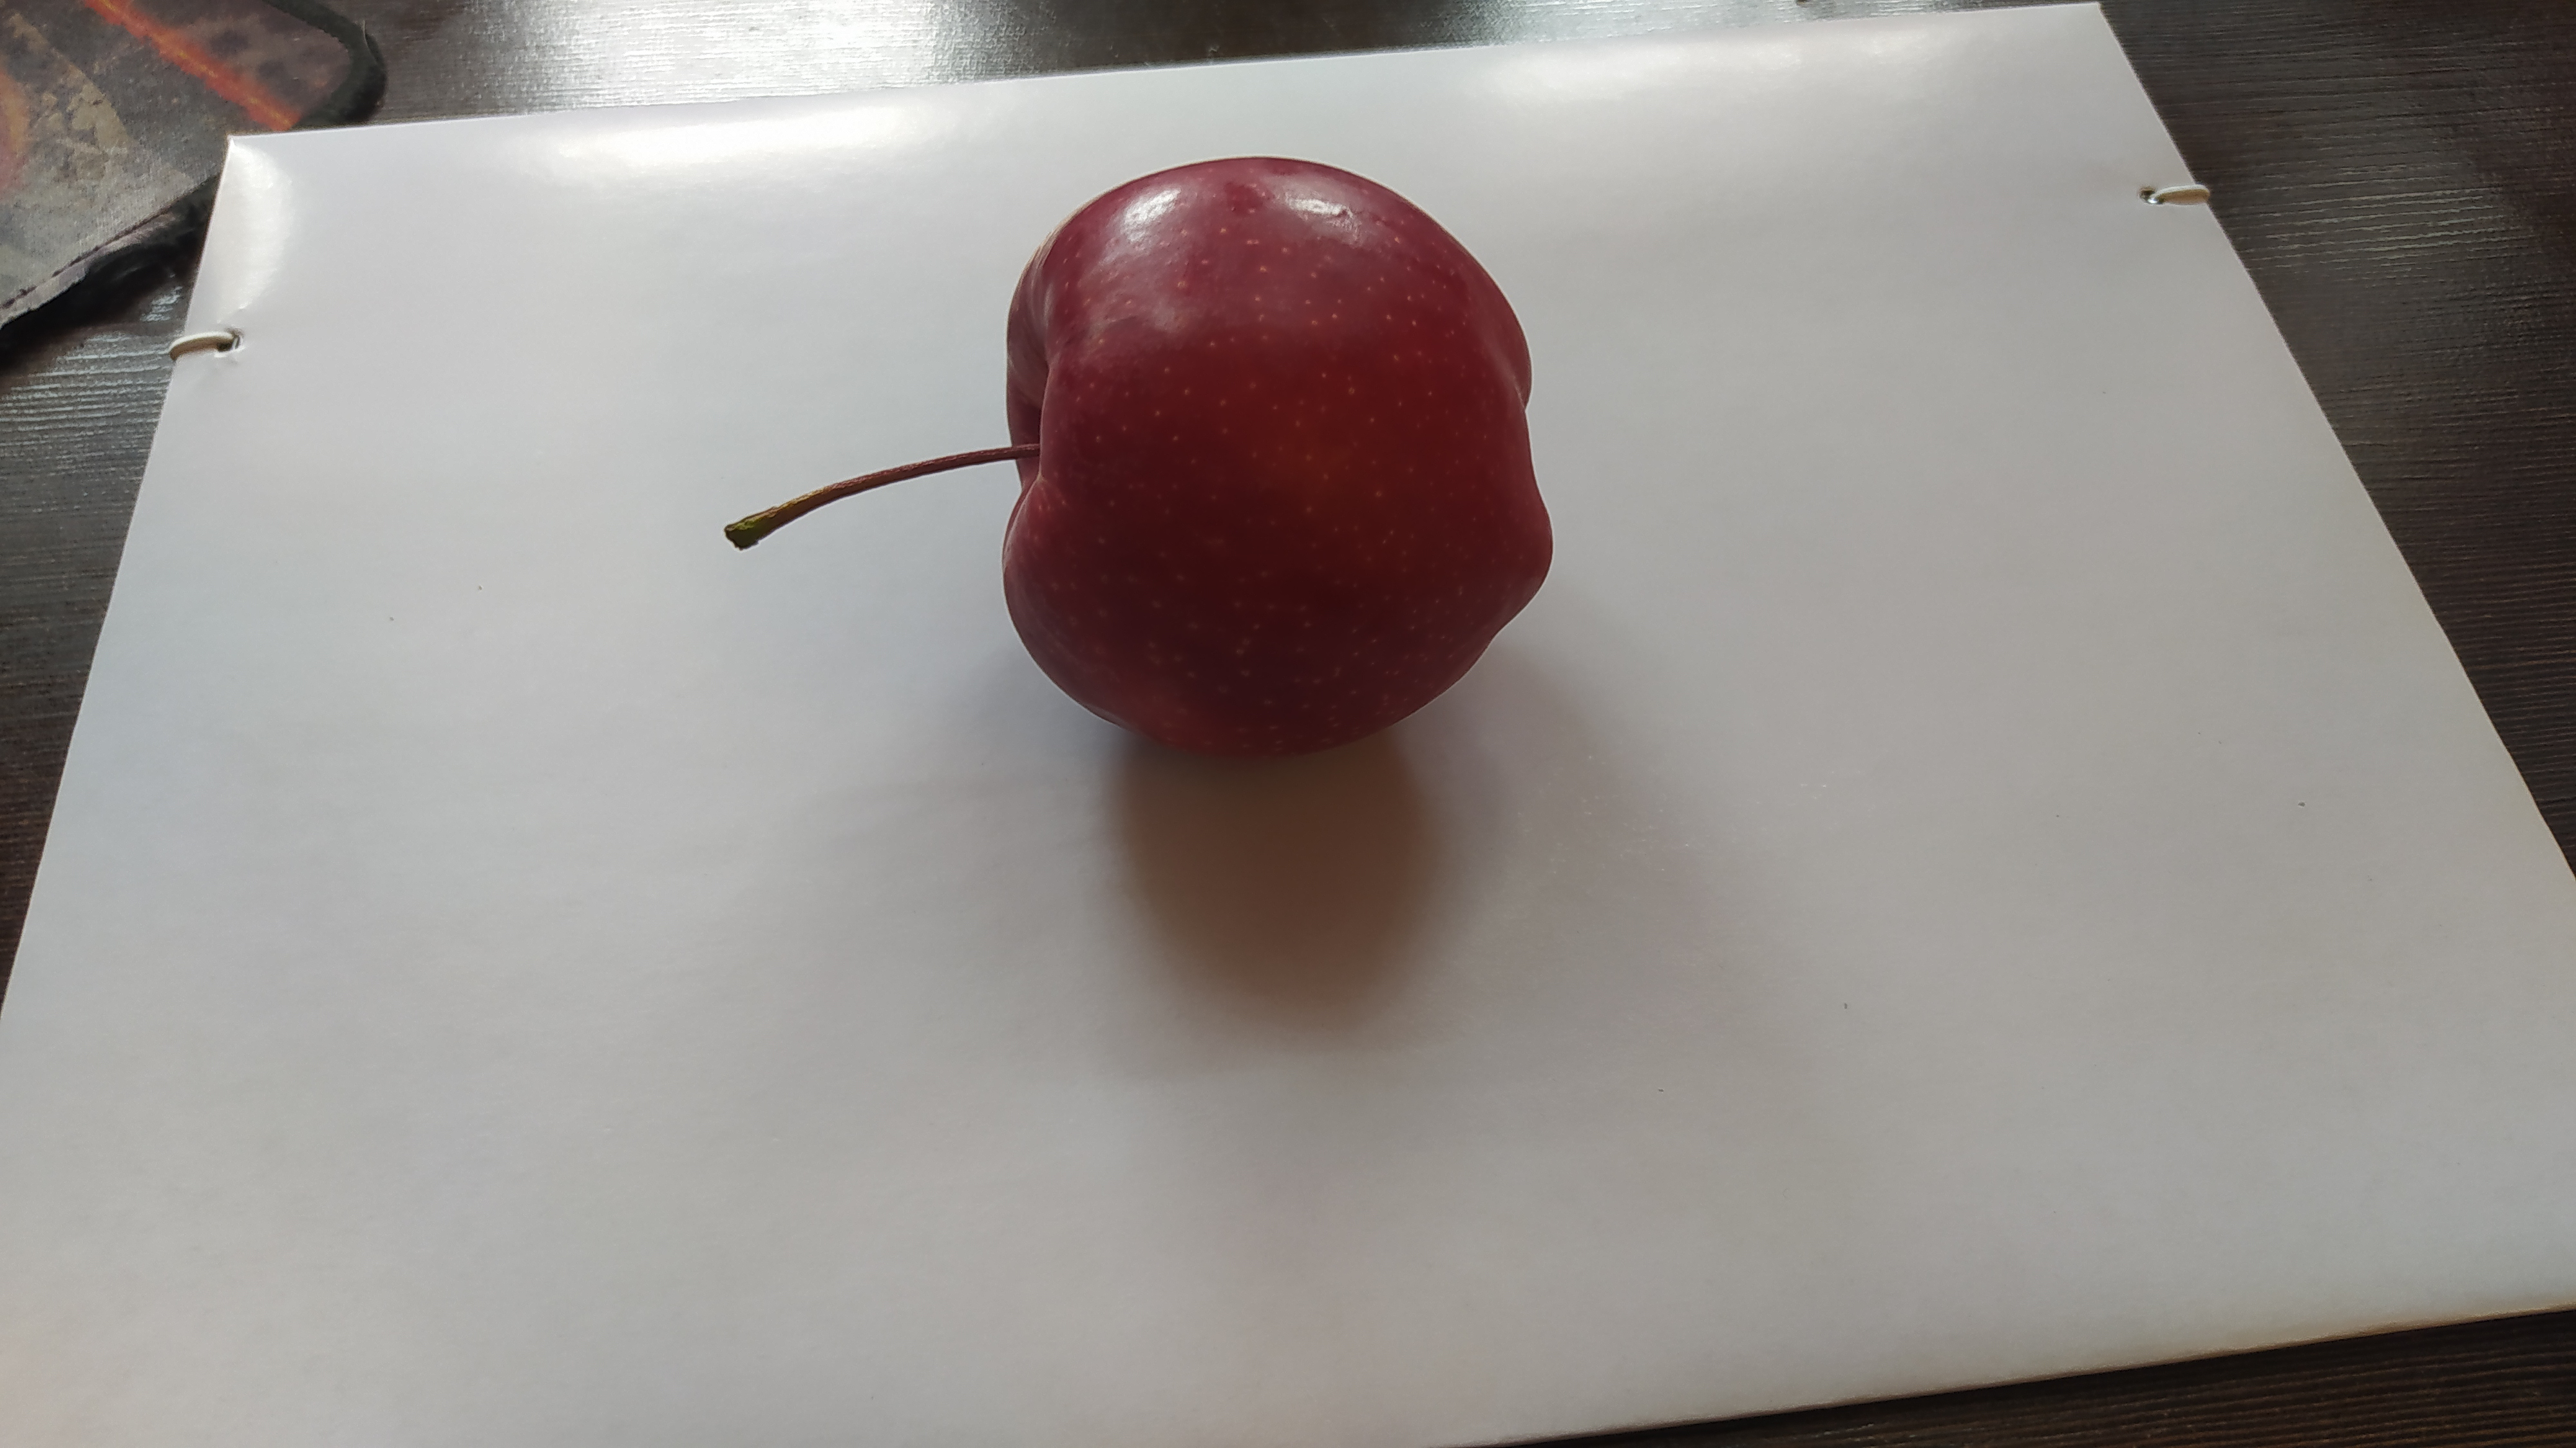apple: (1001, 156, 1557, 758)
